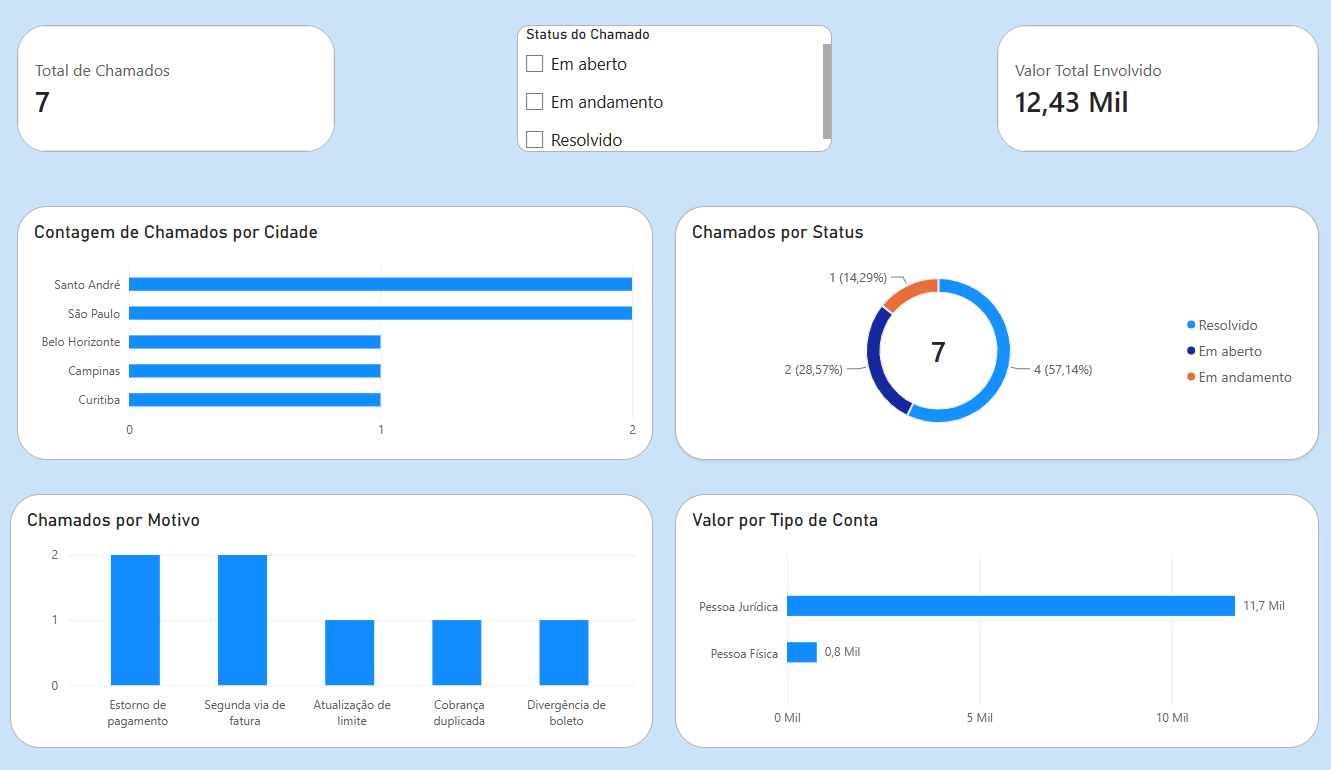

This screenshot's page, from the dashboard's own definition file:
{"tool":"powerbi","page":{"name":"Página 1","canvas":[1920,1080],"ordinal":0},"visuals":[{"type":"cardVisual","fields":{"Data":["CountNonNull(chamados_financeiros.id_chamado)"]},"box":[71,27,318,127],"z":0},{"type":"slicer","fields":{"Values":["chamados_financeiros.status_chamado"]},"box":[571,27,315,127],"z":1000},{"type":"clusteredBarChart","fields":{"Category":["clientes.tipo_conta"],"Y":["Sum(chamados_financeiros.valor_envolvido)"]},"box":[729,496,644,254],"z":2000},{"type":"clusteredColumnChart","fields":{"Category":["chamados_financeiros.motivo_chamado"],"Y":["CountNonNull(chamados_financeiros.id_chamado)"]},"box":[64,496,643,254],"z":3000},{"type":"cardVisual","fields":{"Data":["Sum(chamados_financeiros.valor_envolvido)"]},"box":[1051,27,322,127],"z":4000},{"type":"clusteredBarChart","fields":{"Category":["clientes.cidade"],"Y":["CountNonNull(chamados_financeiros.Chamados)"]},"box":[71,208,636,254],"z":5000},{"type":"donutChart","fields":{"Category":["chamados_financeiros.status_chamado"],"Y":["CountNonNull(chamados_financeiros.id_chamado)"]},"box":[729,208,644,254],"z":6000}]}

Visuals, with their boxes in screenshot pixels (x1, y1, x2, y2), scaled from the page's 1920x1080 canvas onto the 1331x770 screenshot:
cardVisual - CountNonNull(chamados_financeiros.id_chamado): region(49, 19, 270, 110)
slicer - chamados_financeiros.status_chamado: region(396, 19, 614, 110)
clusteredBarChart - clientes.tipo_conta x Sum(chamados_financeiros.valor_envolvido): region(505, 354, 952, 535)
clusteredColumnChart - chamados_financeiros.motivo_chamado x CountNonNull(chamados_financeiros.id_chamado): region(44, 354, 490, 535)
cardVisual - Sum(chamados_financeiros.valor_envolvido): region(729, 19, 952, 110)
clusteredBarChart - clientes.cidade x CountNonNull(chamados_financeiros.Chamados): region(49, 148, 490, 329)
donutChart - chamados_financeiros.status_chamado x CountNonNull(chamados_financeiros.id_chamado): region(505, 148, 952, 329)
